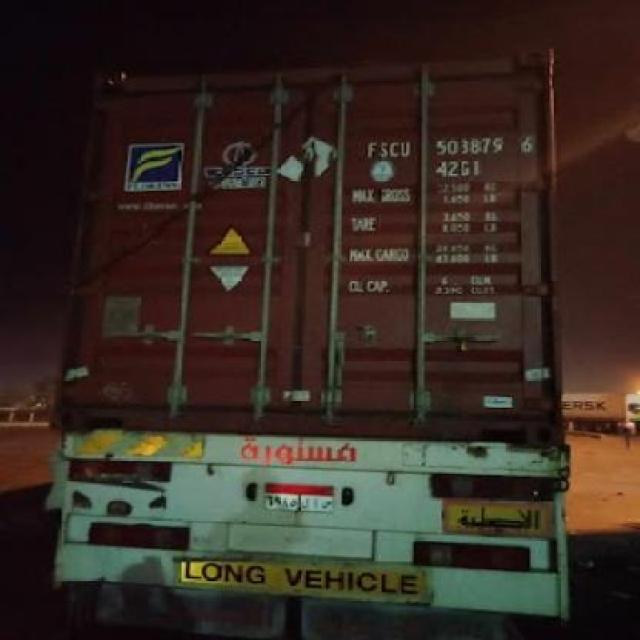ISO: (435, 157, 491, 181)
container_number: (361, 134, 537, 158)
